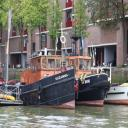tugboat: (1, 45, 77, 112)
